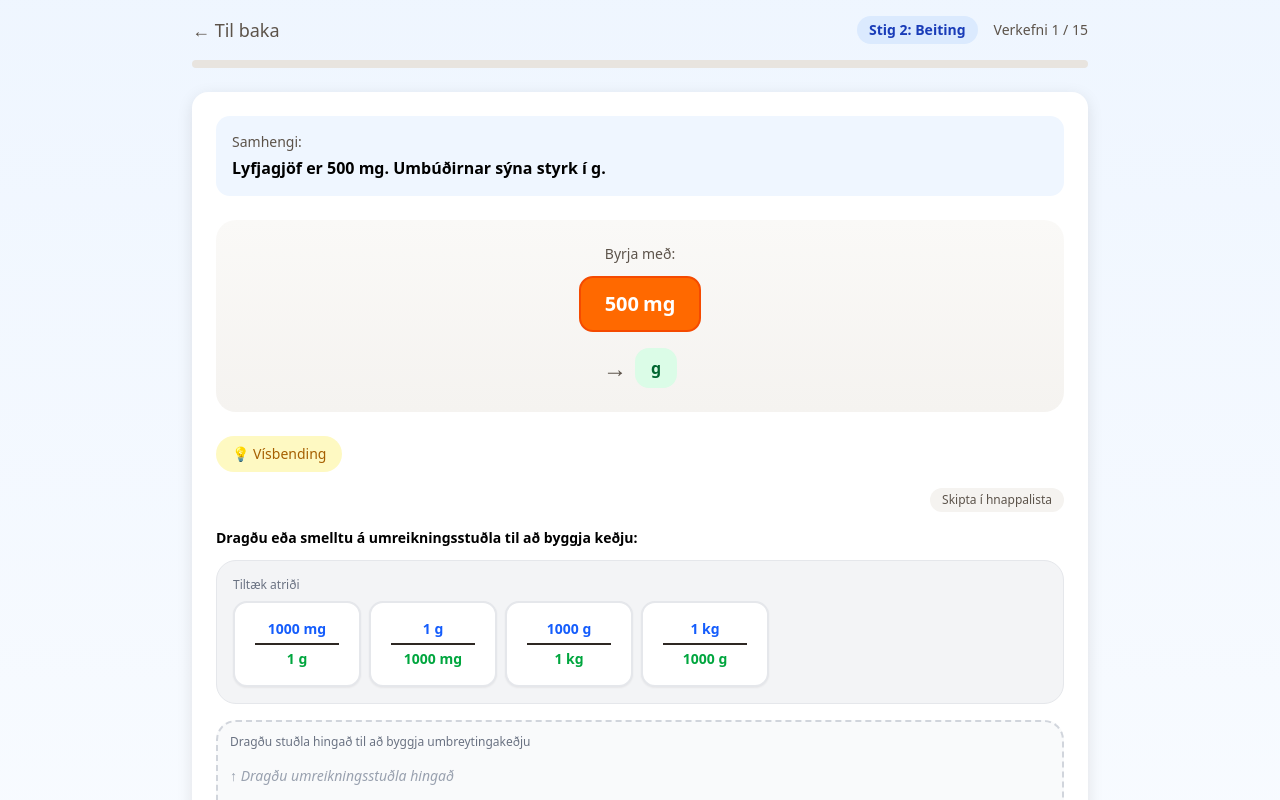
Test: Level 2 — the mode toggle names a layout › says which layout it switches to, never click or drag
Check: the element with class "items-pool" is shown, box [216,560,1064,704]
Click the button "Skipta í hnappalista": (997, 500) [930,488,1064,512]
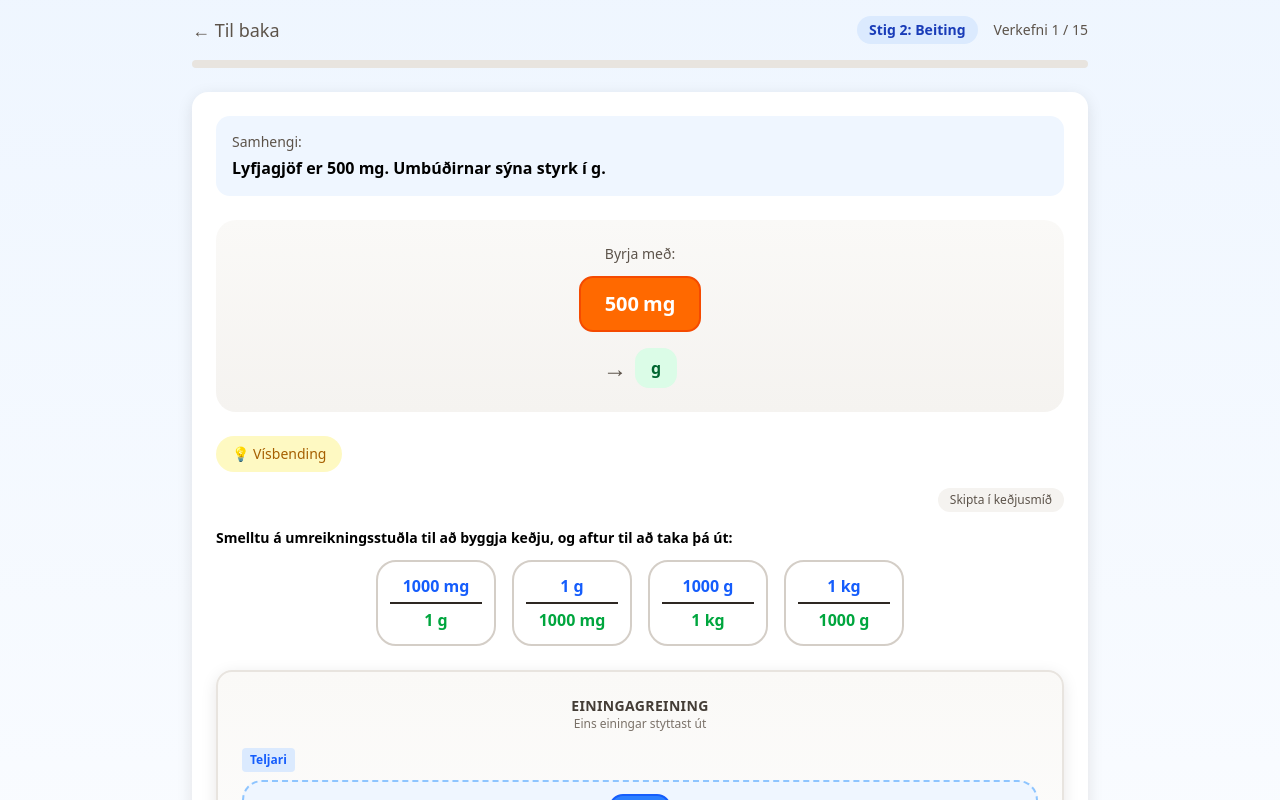
Check: the button "Skipta í keðjusmíð" is shown, box [938,488,1064,512]
Check: the element with class "items-pool" is gone
